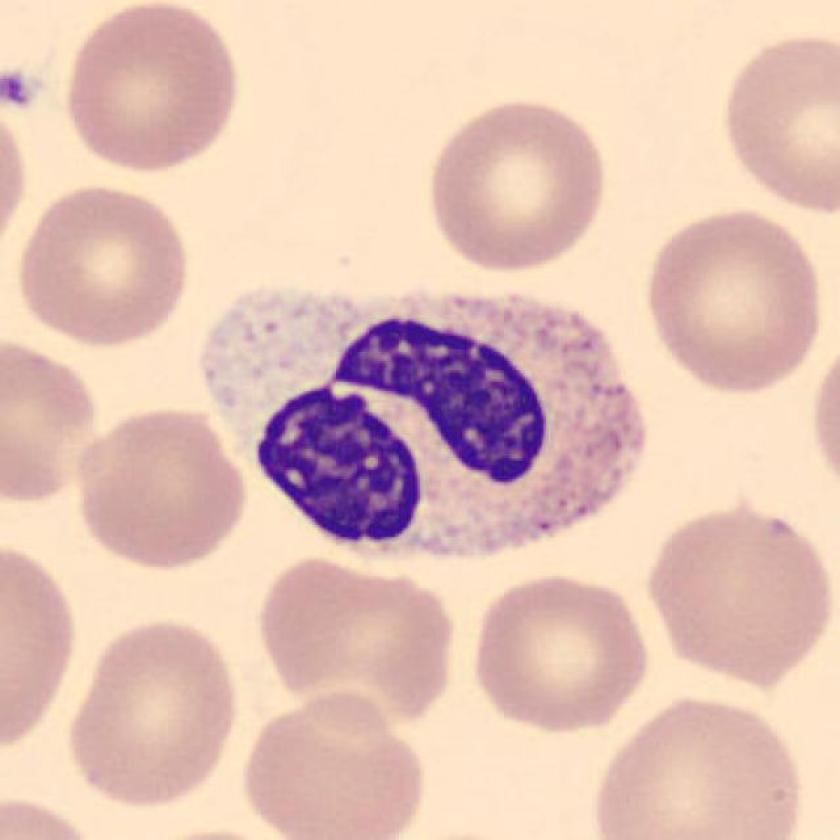neutrophil: (201, 287, 642, 555)
